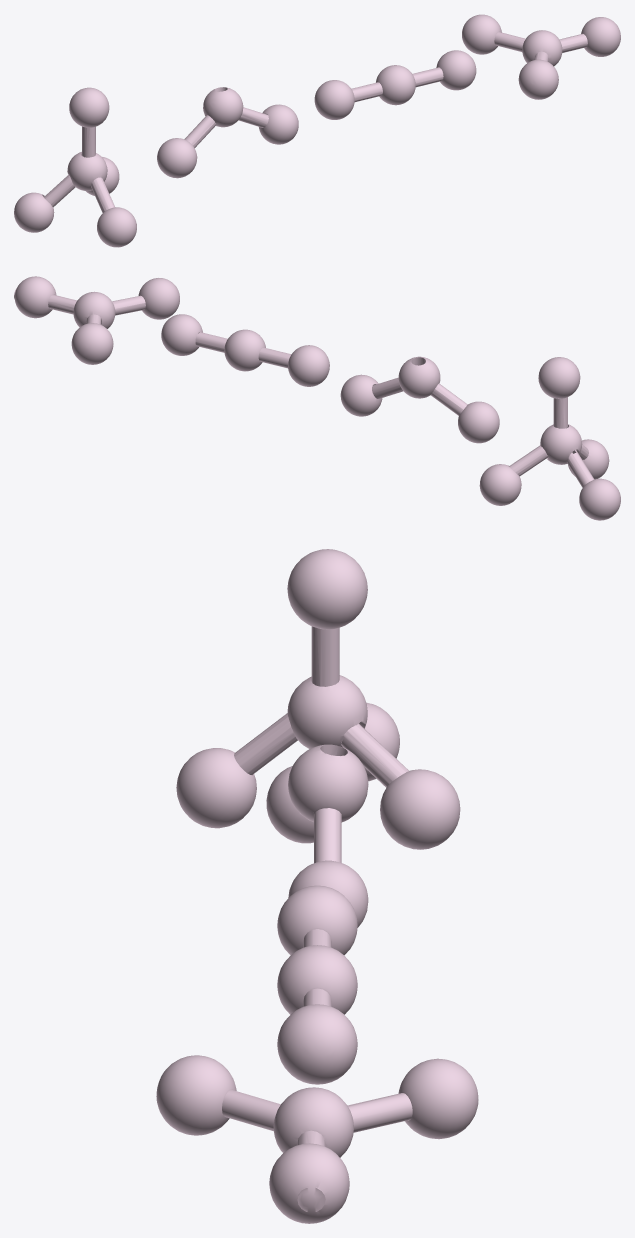
3 views of the same model, one above another, from view 1: azimuth 30°, elevation 25°; view 2: azimuth 150°, elevation 25°; view 3: azimuth 270°, elevation 25° (orthographic). The views are drawn at different scales.
Visible parts, largest first — view 1: Shiny Gaaris-Leelo (1); view 2: Shiny Gaaris-Leelo (1); view 3: Shiny Gaaris-Leelo (1).
Part boxes in pixels (box(x1,y1,x2,y2)): Shiny Gaaris-Leelo (1): box(14, 14, 620, 247); Shiny Gaaris-Leelo (1): box(14, 276, 620, 520); Shiny Gaaris-Leelo (1): box(156, 549, 478, 1223).
Bounding box in the file's own units: 338 × 74.45 × 79.96.
